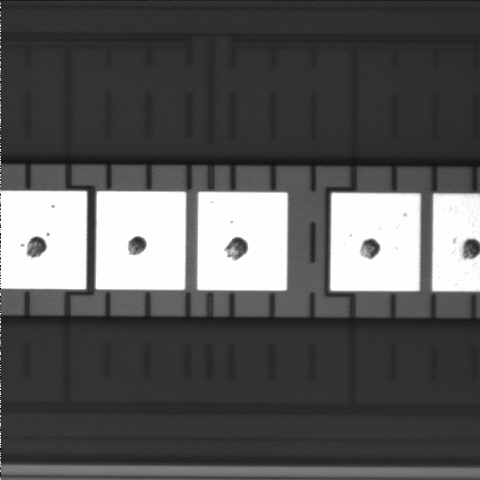pad: (197, 192, 288, 291), (96, 191, 186, 290), (330, 193, 420, 291)
